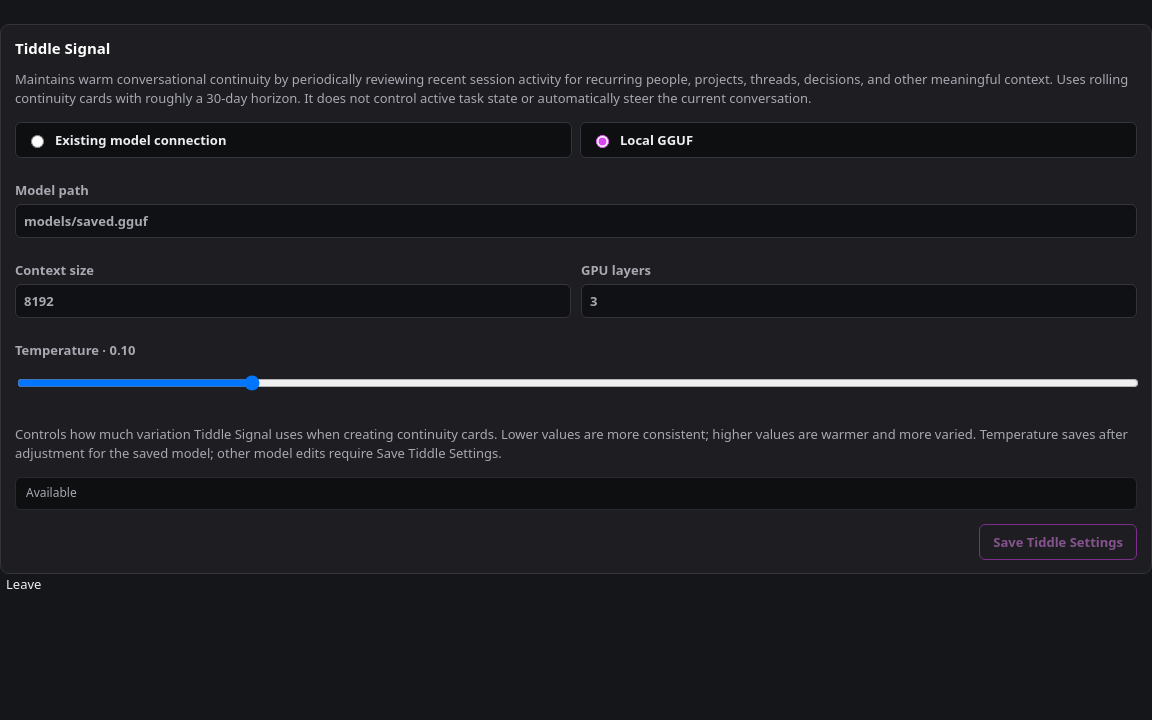
it: keeps local model parameters coupled while keyboard temperature commits only the accepted local selection
The image size is (1152, 720).
Expected: the slider is enabled, [17, 366, 1139, 400]
Replace the text in the field labelled "Model path" with "unfinished" at (576, 221), box [15, 204, 1137, 238]
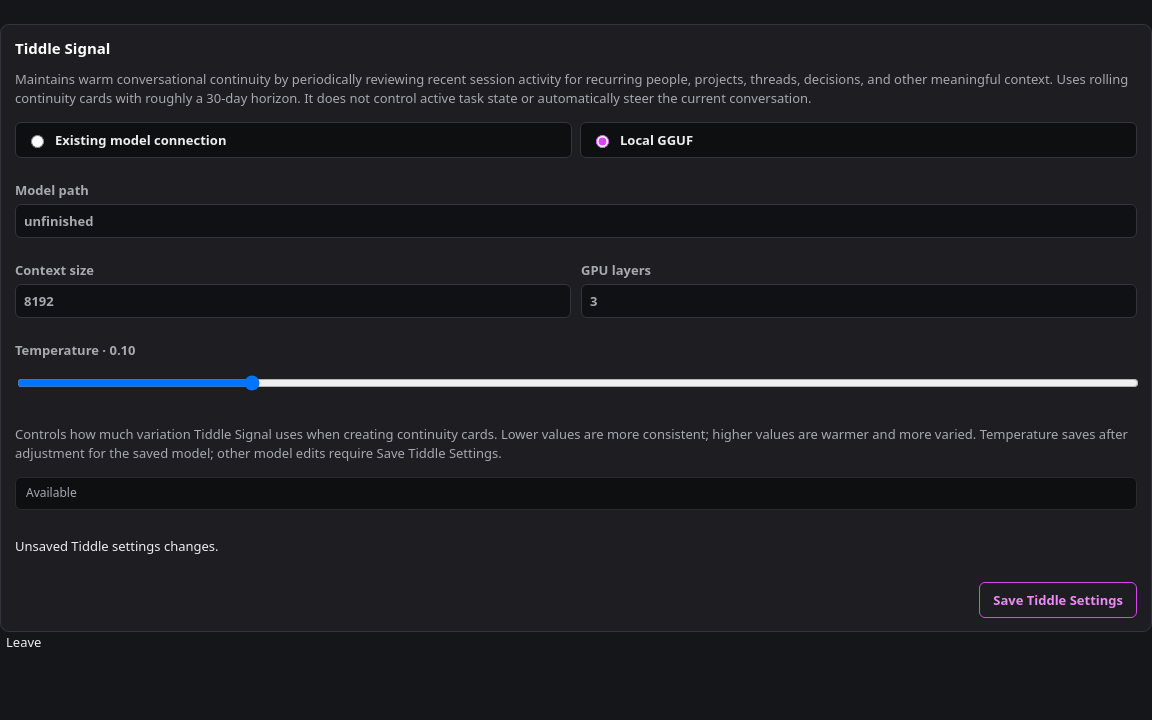
Replace the text in the number field labelled "GPU layers" with "8" at (859, 301), box [581, 284, 1137, 318]
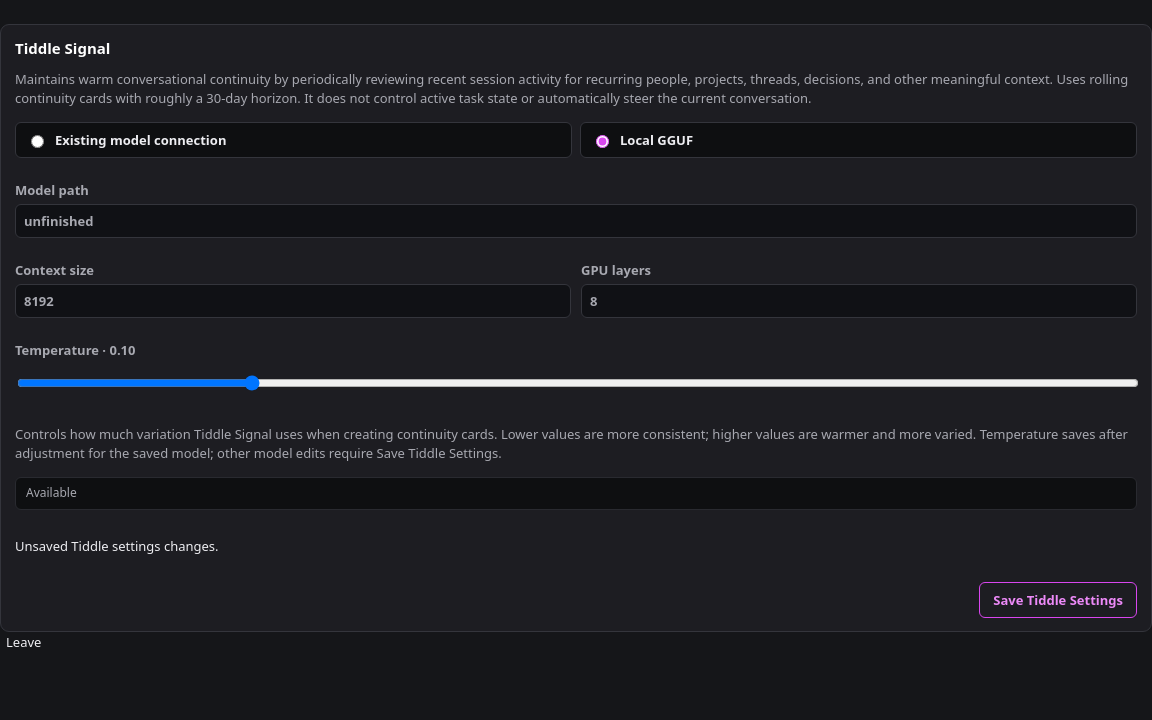
Press ArrowRight in the slider, box [17, 366, 1139, 400]
Set the slider to "0.2" at (467, 383), box [17, 366, 1139, 400]
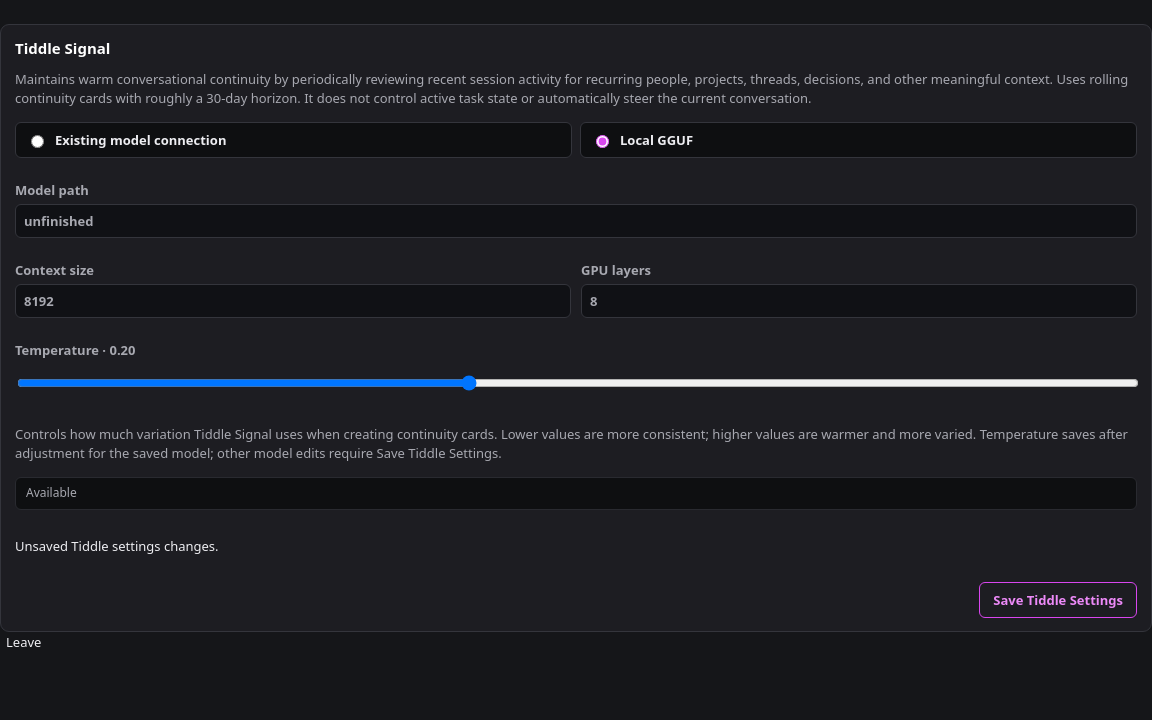
Set the slider to "0.3" at (689, 383), box [17, 366, 1139, 400]
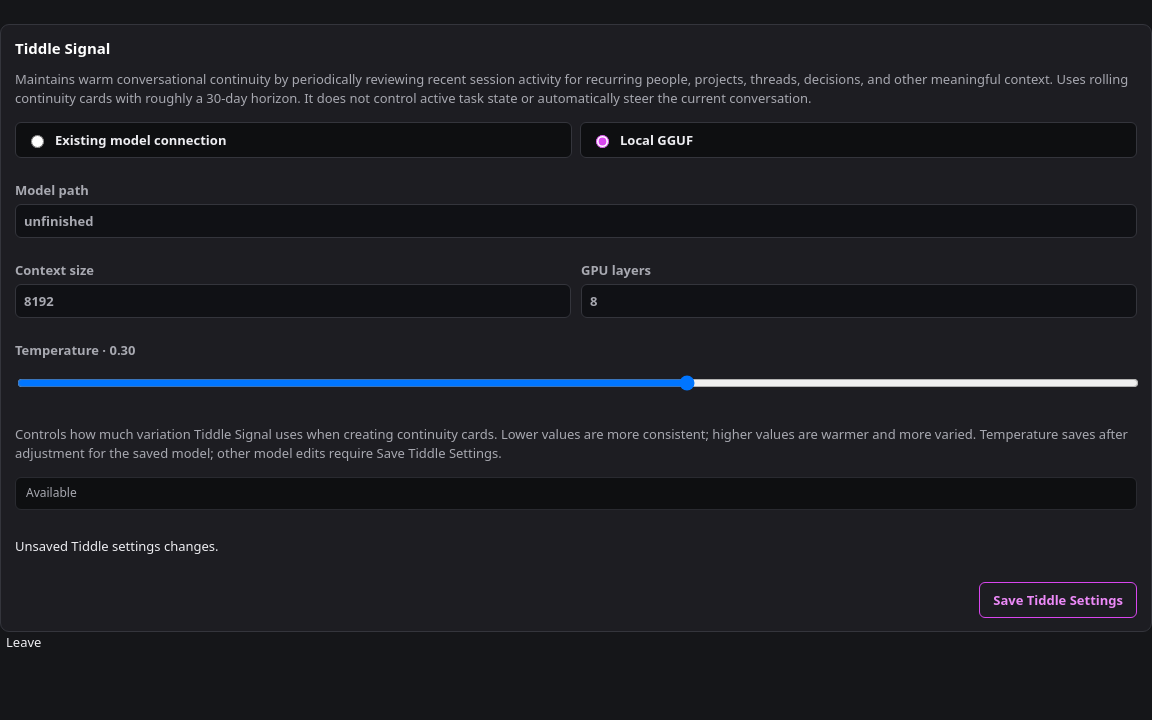
Press ArrowRight in the slider, box [17, 366, 1139, 400]
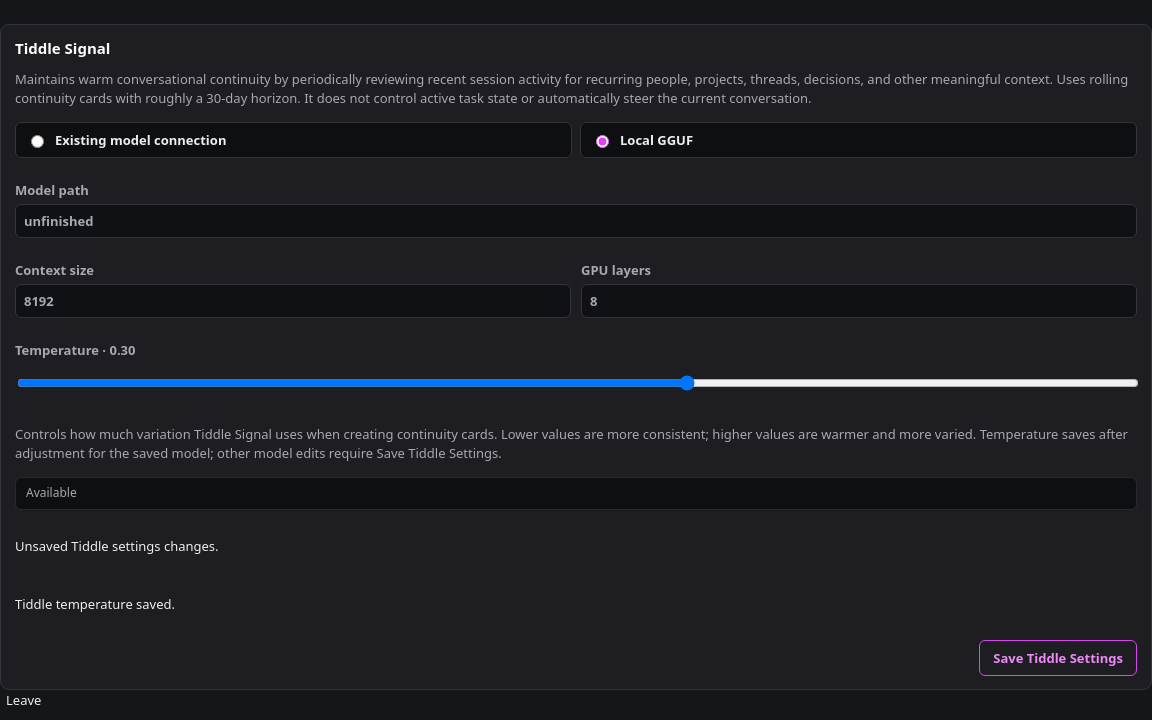
Now the text "Tiddle temperature saved." is shown, box [15, 595, 175, 613]
Click the button "Save Tiddle Settings" at (1058, 658), box [979, 640, 1137, 676]
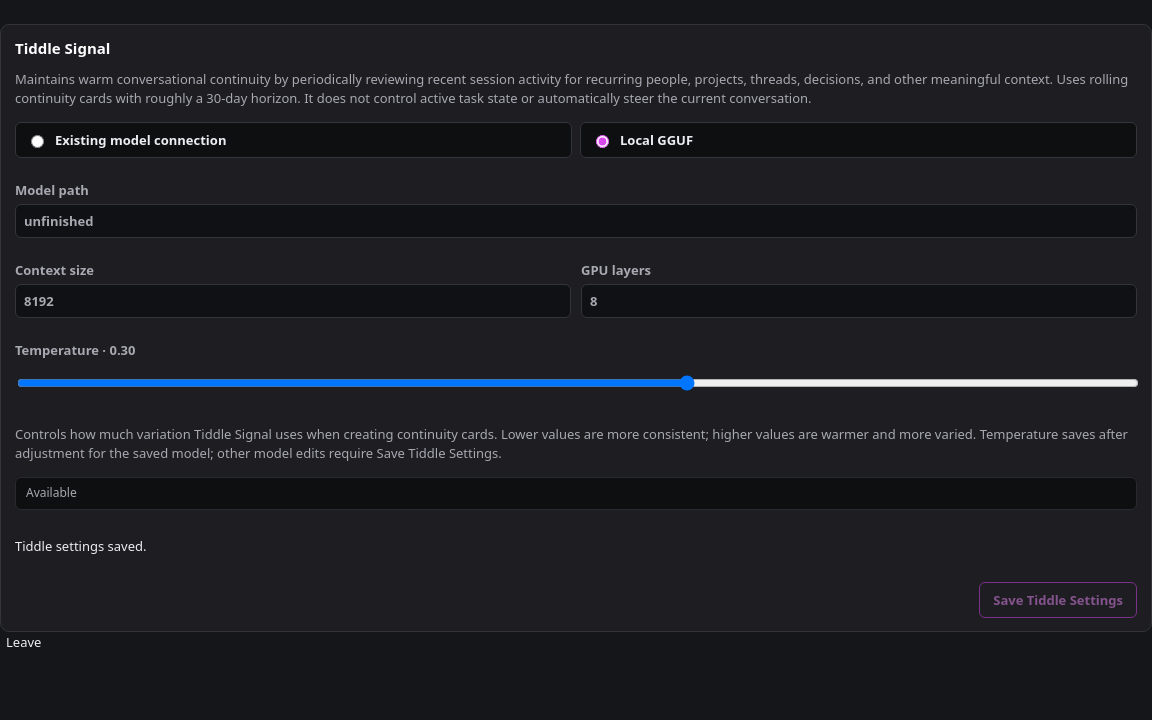
Now the text "Tiddle settings saved." is shown, box [15, 537, 146, 555]
